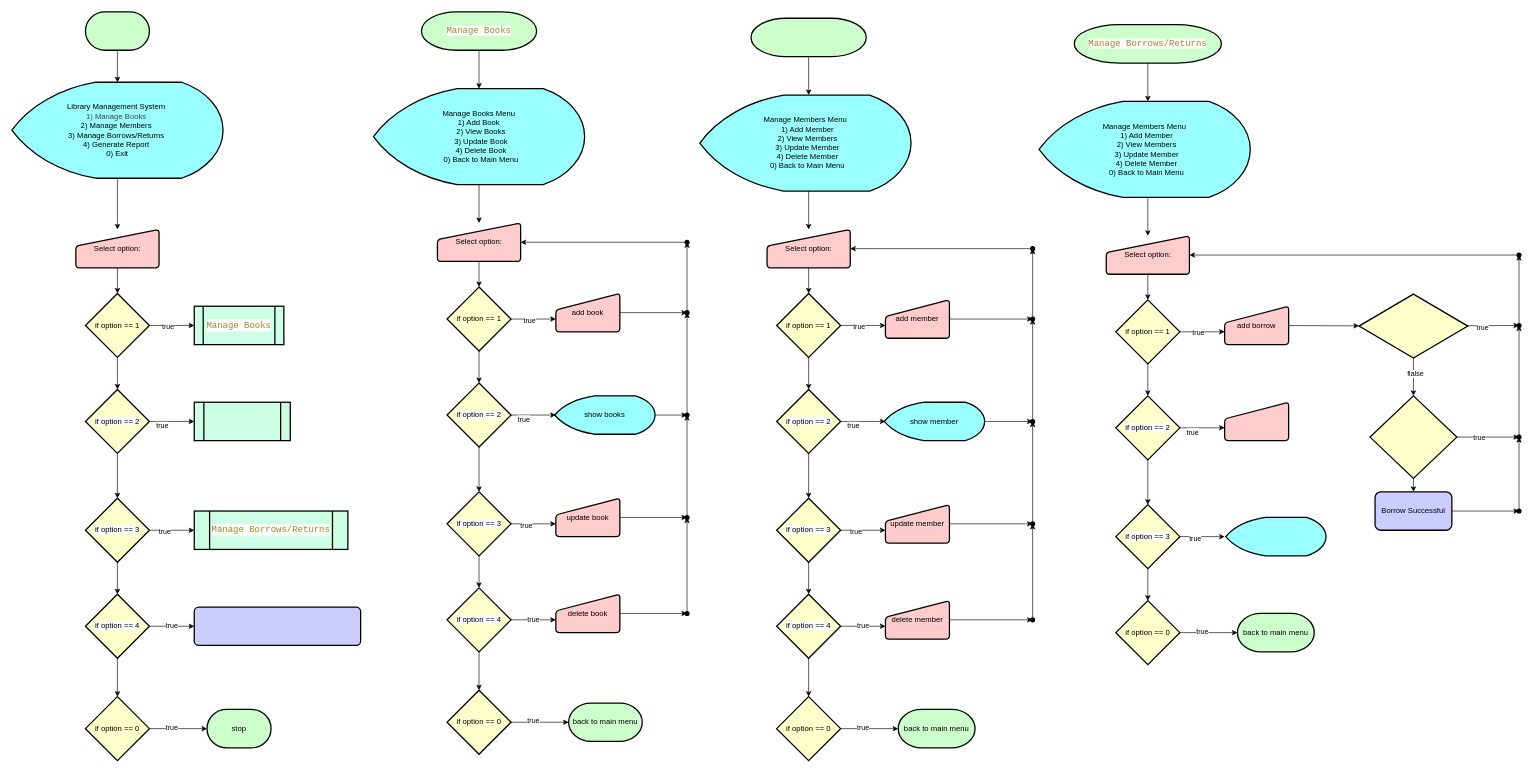
Image size: 1537x772. Some labels were removed from this diagram. The centre of each missing label's shape, as x and y in pixels:
"Genarate report.txt" belongs at point (277, 626).
"is book out of stock?" belongs at point (1413, 325).
"is member already borrow this book?" belongs at point (1413, 437).
"Manage member" belongs at point (808, 37).
"Manage Members" belongs at point (242, 421).
"return book" belongs at point (1256, 421).
"show borrow list" belongs at point (1275, 536).
"start" belongs at point (117, 31).
